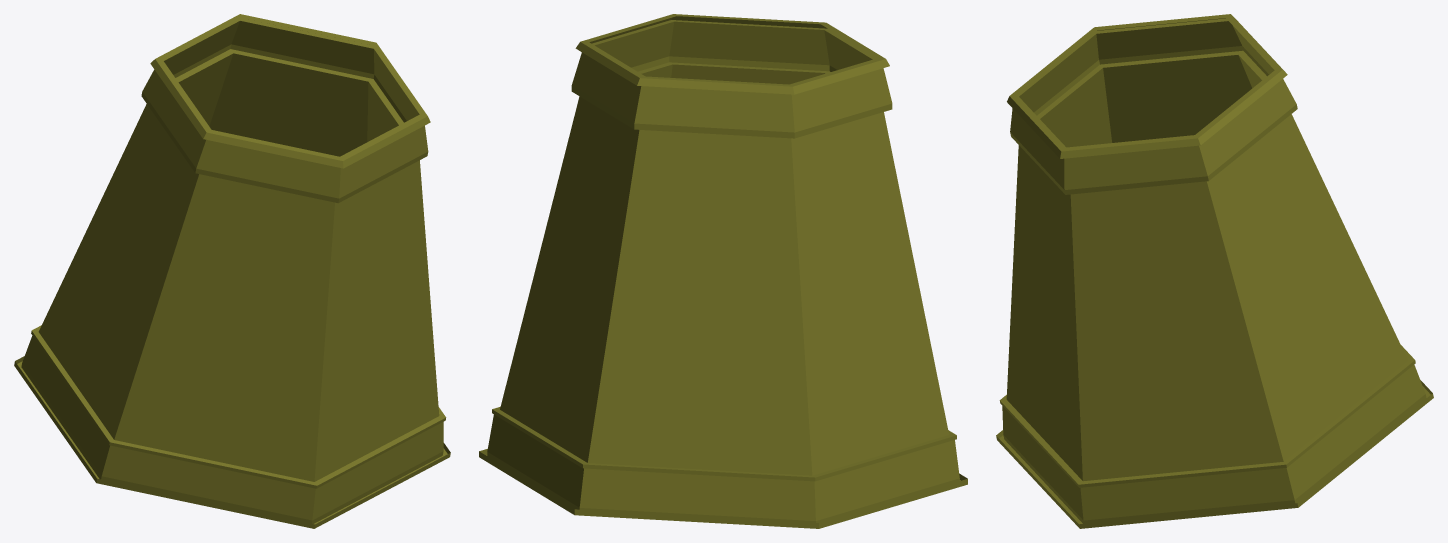
The model's file is Lighthouse-model-lamp-off.glb.
The picture shows the model from 3 angles, left to right: view 1: azimuth 30°, elevation 25°; view 2: azimuth 150°, elevation 25°; view 3: azimuth 270°, elevation 25°; orthographic projection. The views are drawn at different scales.
Visible parts, largest first — view 1: lamp shade.001; view 2: lamp shade.001; view 3: lamp shade.001.
Boxes of the visible parts, x1,y1,x2,y2 form: lamp shade.001: (14, 14, 450, 528); lamp shade.001: (479, 14, 967, 528); lamp shade.001: (996, 14, 1433, 528).
Size of the model in its own units: 4.54 by 4.88 by 4.78.
